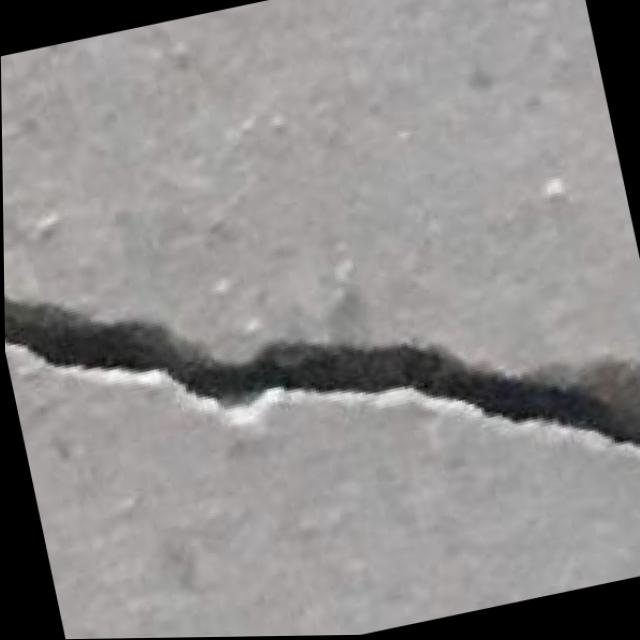Crack: (2, 182, 640, 608)
